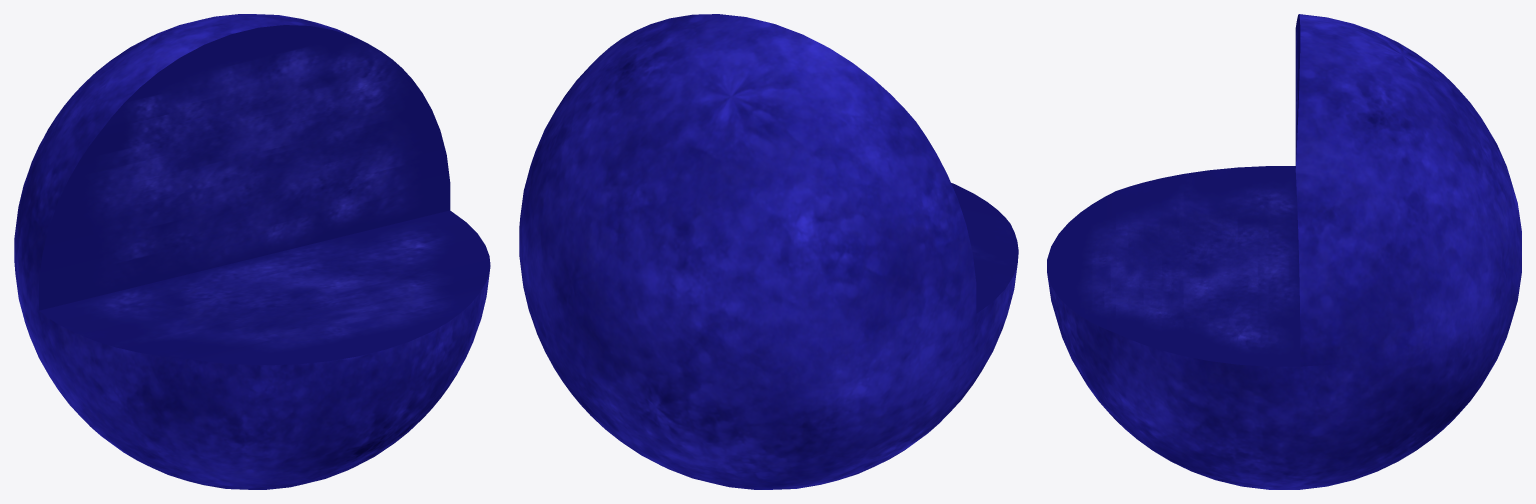
Rendered from involucro nucleare.glb.
3 renders of one model, left to right at view 1: azimuth 30°, elevation 25°; view 2: azimuth 150°, elevation 25°; view 3: azimuth 270°, elevation 25°, orthographic. The views are drawn at different scales.
Visible parts, largest first — view 1: Object_49; view 2: Object_49; view 3: Object_49.
Part boxes in pixels (left/top/right/bottom): Object_49: left=14, top=14, right=490, bottom=489; Object_49: left=519, top=14, right=1018, bottom=489; Object_49: left=1047, top=14, right=1521, bottom=489.
Bounding box in the file's own units: 1.22 × 1.22 × 1.22.
Materials: 1 (1 with a texture image).
